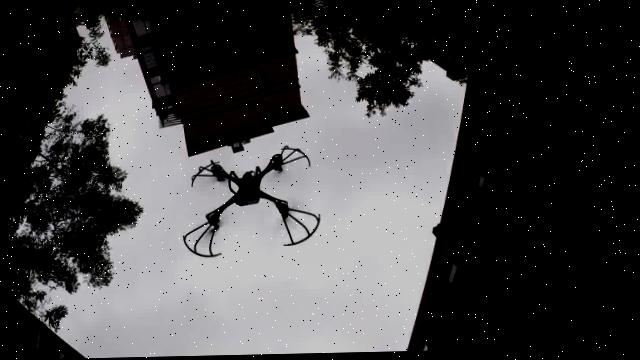drone: (162, 132, 338, 268)
